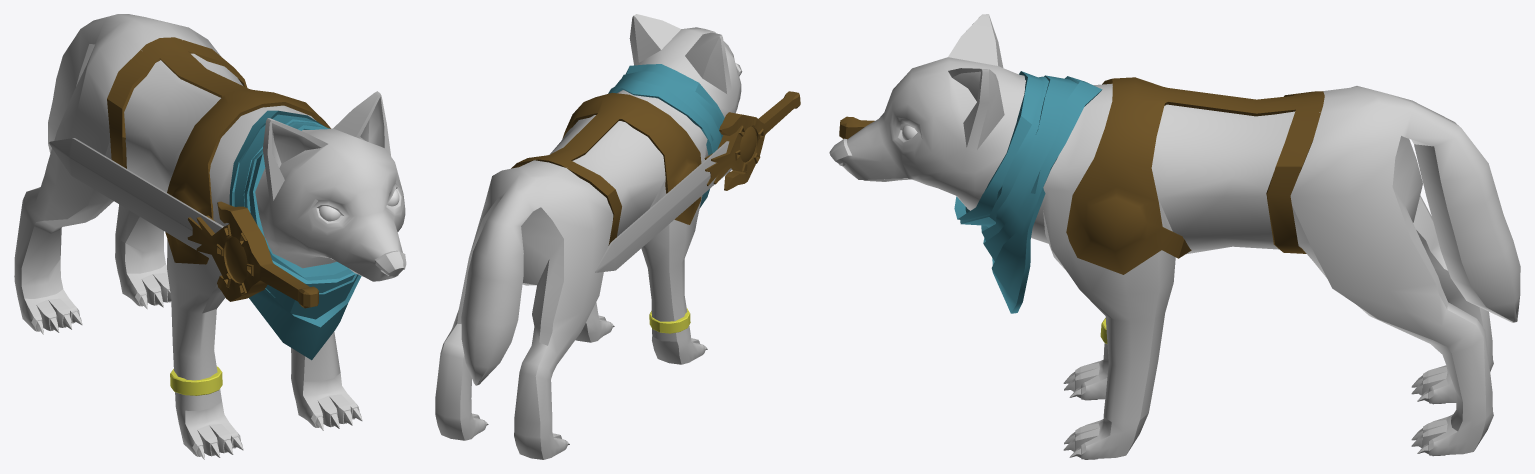
The model's file is Wolf.FBX.
The picture shows the model from 3 angles, left to right: view 1: azimuth 30°, elevation 25°; view 2: azimuth 150°, elevation 25°; view 3: azimuth 270°, elevation 25°; orthographic projection. The views are drawn at different scales.
Visible parts, largest first — view 1: Kito_Body, Kito_Armor, Kito_Scarf, Kito_Hilt, Kito_Blade, Kito_Ring; view 2: Kito_Body, Kito_Armor, Kito_Scarf, Kito_Blade, Kito_Hilt, Kito_Ring; view 3: Kito_Body, Kito_Armor, Kito_Scarf.
Boxes of the visible parts, x1,y1,x2,y2 form: Kito_Body: (14, 14, 406, 459); Kito_Armor: (107, 37, 330, 264); Kito_Scarf: (229, 110, 361, 360); Kito_Hilt: (187, 201, 318, 308); Kito_Blade: (49, 138, 223, 261); Kito_Ring: (170, 366, 222, 395); Kito_Body: (435, 14, 742, 459); Kito_Armor: (511, 92, 701, 245); Kito_Scarf: (608, 64, 724, 208); Kito_Blade: (595, 141, 732, 272); Kito_Hilt: (704, 91, 800, 190); Kito_Ring: (649, 308, 690, 333); Kito_Body: (829, 14, 1520, 459); Kito_Armor: (1066, 77, 1324, 274); Kito_Scarf: (954, 71, 1102, 313).
Size of the model in its own units: 7.36 by 14.59 by 24.13.
